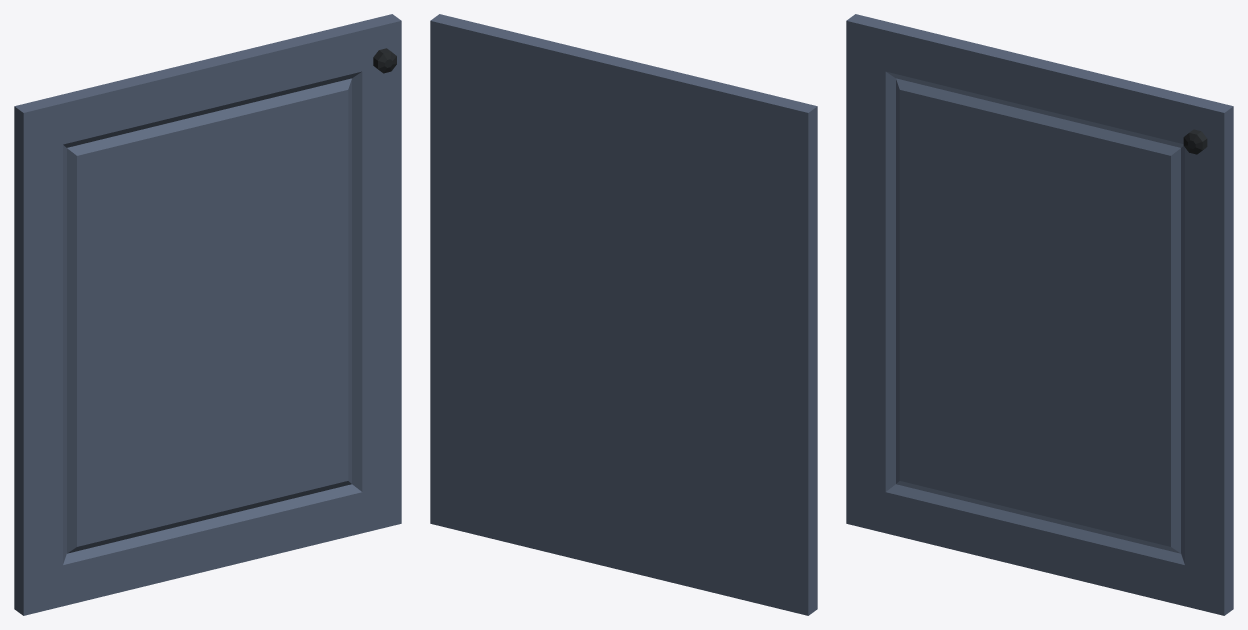
The model's file is Door3_C4_02.fbx.
3 views of the same model, side by side, from view 1: azimuth 30°, elevation 25°; view 2: azimuth 150°, elevation 25°; view 3: azimuth 330°, elevation 25° (orthographic).
Visible parts, largest first — view 1: Door3_C4_02; view 2: Door3_C4_02; view 3: Door3_C4_02.
Boxes of the visible parts, <box> form: Door3_C4_02: <box>14,14,401,615</box>; Door3_C4_02: <box>430,14,817,615</box>; Door3_C4_02: <box>846,14,1233,615</box>.
Bounding box in the file's own units: 59 × 75 × 5.19.
